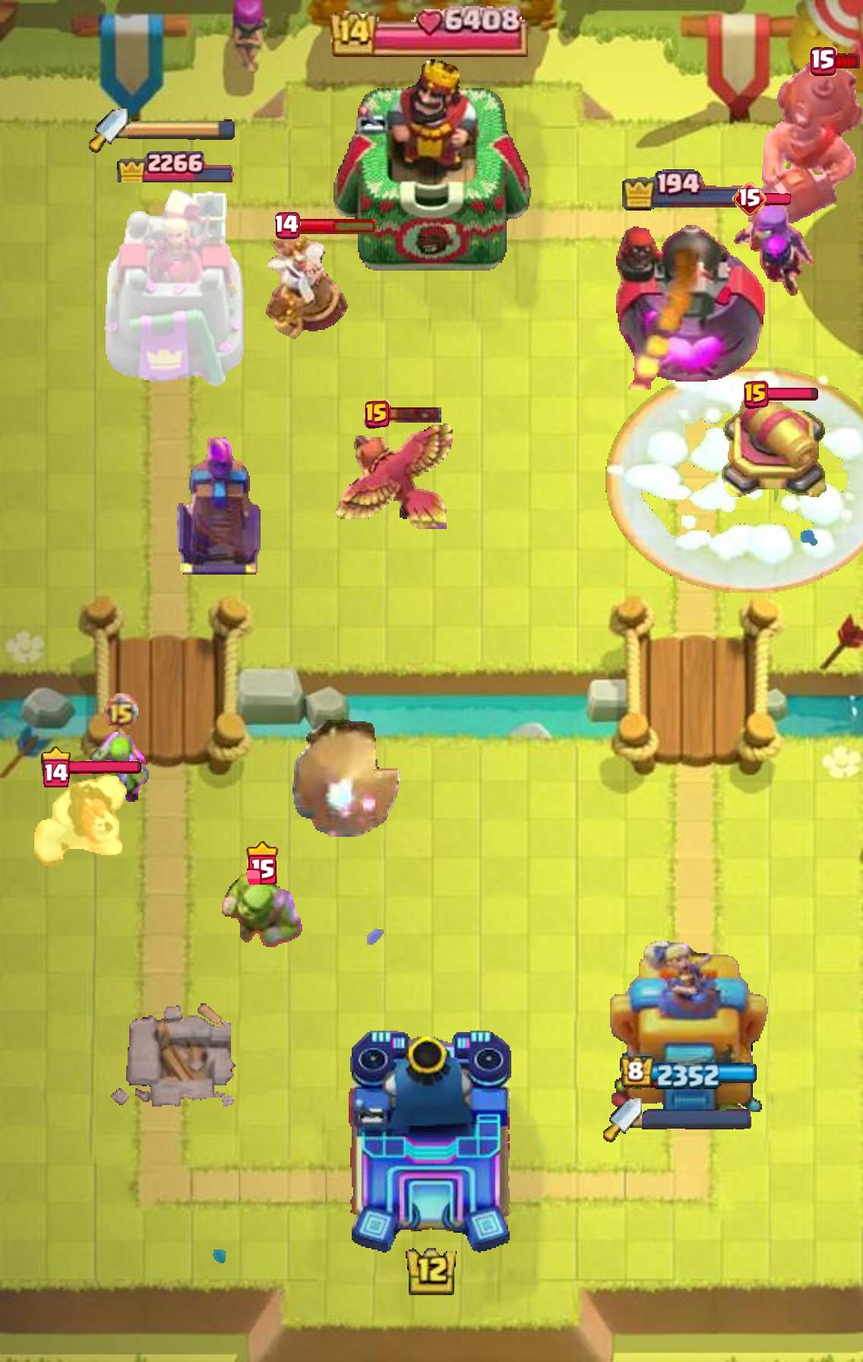bar: (297, 217, 378, 235), (67, 759, 143, 774), (386, 405, 442, 423), (765, 388, 818, 402), (833, 52, 862, 71), (763, 193, 791, 206)
bar-level: (247, 841, 279, 885), (41, 746, 71, 787), (732, 182, 767, 217), (810, 46, 837, 77), (743, 380, 769, 409), (364, 400, 390, 429), (274, 211, 300, 239)
